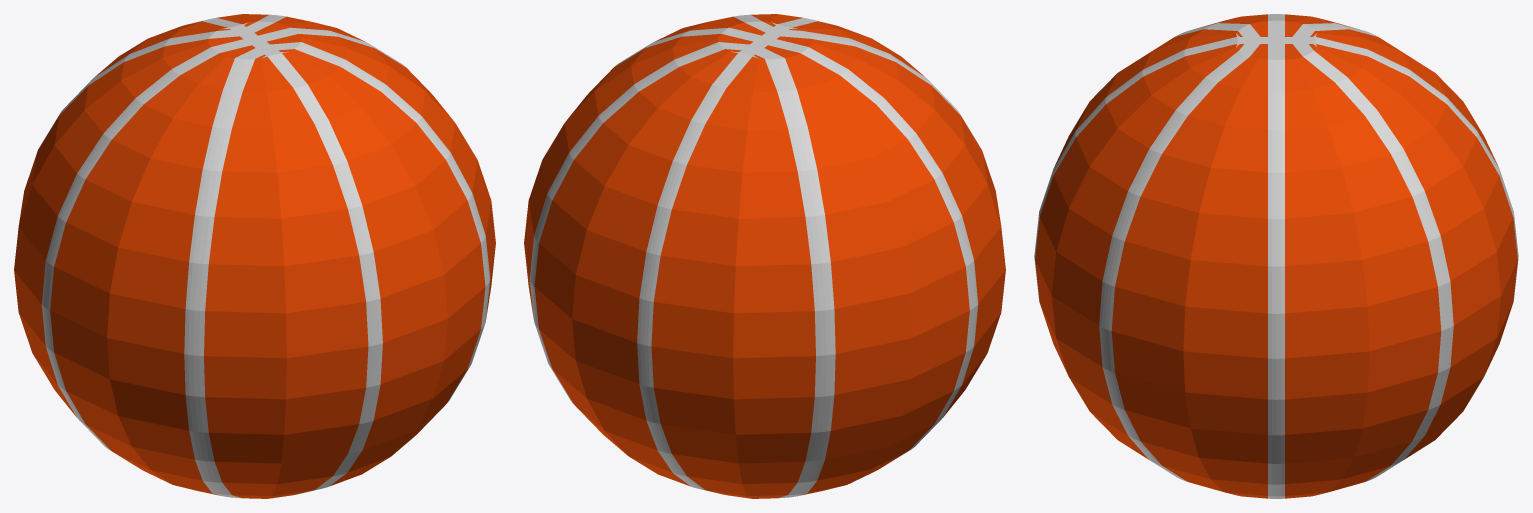
File: ball.fbx
3 renders of one model, left to right at view 1: azimuth 30°, elevation 25°; view 2: azimuth 150°, elevation 25°; view 3: azimuth 270°, elevation 25°, orthographic.
Visible parts, largest first — view 1: Sphere; view 2: Sphere; view 3: Sphere.
Boxes of the visible parts, <box> form: Sphere: <box>14,14,495,498</box>; Sphere: <box>524,14,1005,498</box>; Sphere: <box>1034,14,1518,498</box>.
Size of the model in its own units: 199 by 196 by 199.
